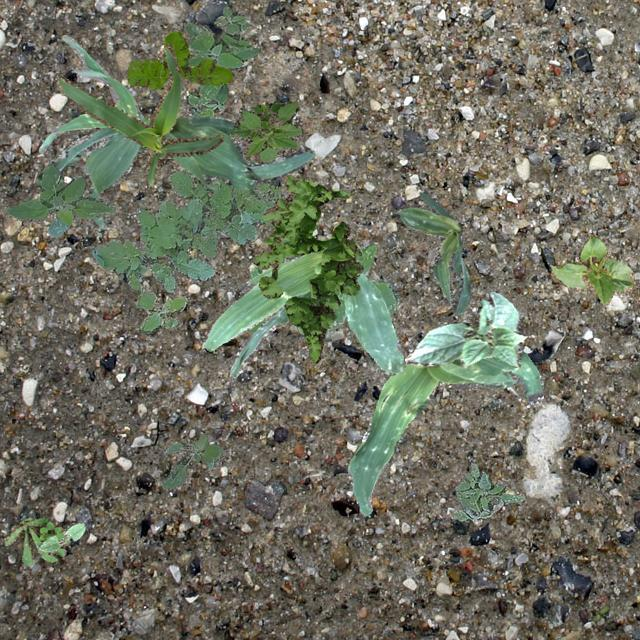crop: (346, 349, 542, 515), (34, 116, 314, 227), (202, 250, 404, 376), (56, 44, 222, 188), (38, 34, 144, 152), (394, 188, 471, 314), (404, 290, 526, 366), (550, 232, 634, 304), (38, 520, 84, 552)
weed: (90, 155, 280, 291), (254, 174, 362, 362), (246, 244, 398, 338), (182, 5, 258, 117), (5, 164, 114, 236), (126, 31, 234, 88), (228, 99, 300, 162), (448, 462, 522, 522), (162, 434, 224, 488), (2, 516, 68, 566), (134, 284, 187, 332)
